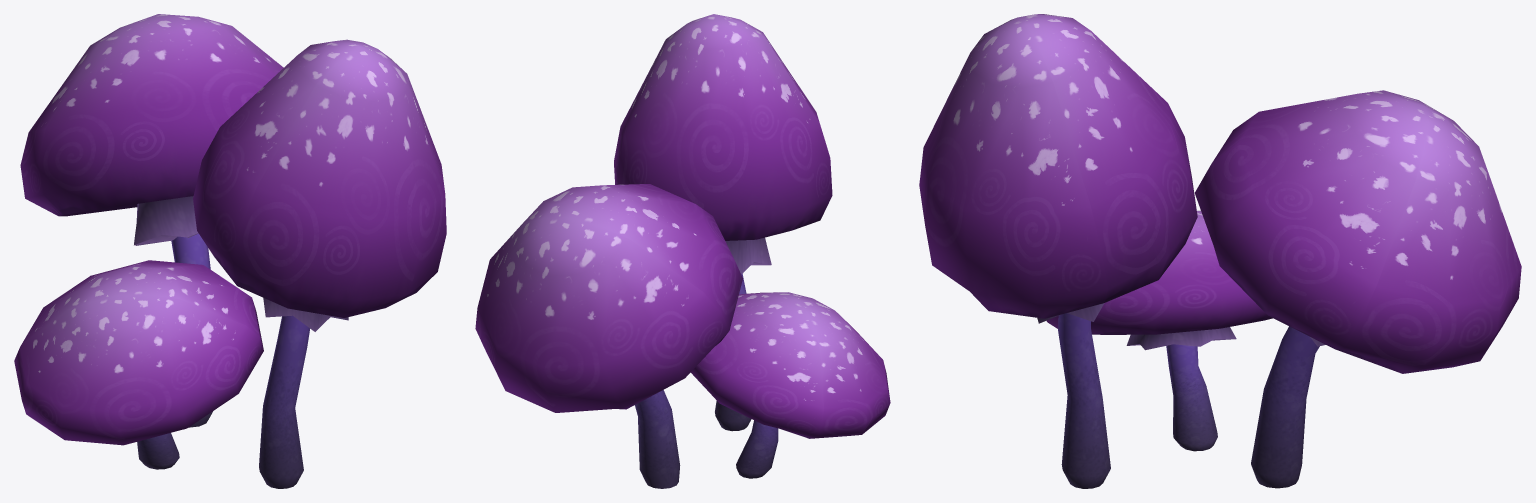
The model's file is SM_MagicMushroom.fbx.
3 renders of one model, left to right at view 1: azimuth 30°, elevation 25°; view 2: azimuth 150°, elevation 25°; view 3: azimuth 270°, elevation 25°, orthographic. The views are drawn at different scales.
Parts seen in each view (by area): view 1: SM_MagicMushroomCluster; view 2: SM_MagicMushroomCluster; view 3: SM_MagicMushroomCluster.
Part boxes in pixels (x1,y1,x2,y2): SM_MagicMushroomCluster: [14, 14, 446, 488]; SM_MagicMushroomCluster: [475, 14, 890, 488]; SM_MagicMushroomCluster: [919, 14, 1521, 488].
Size of the model in its own units: 7.14 by 8.32 by 9.37.
